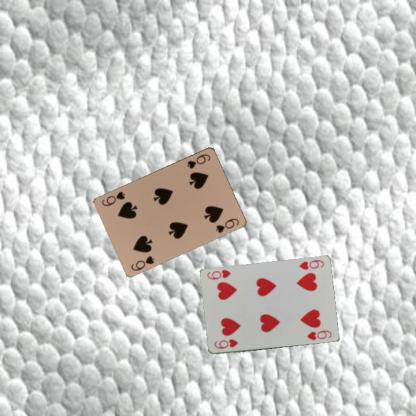6h: (296, 257, 325, 271), (212, 337, 239, 350)
6s: (184, 151, 212, 170), (128, 253, 156, 272)
